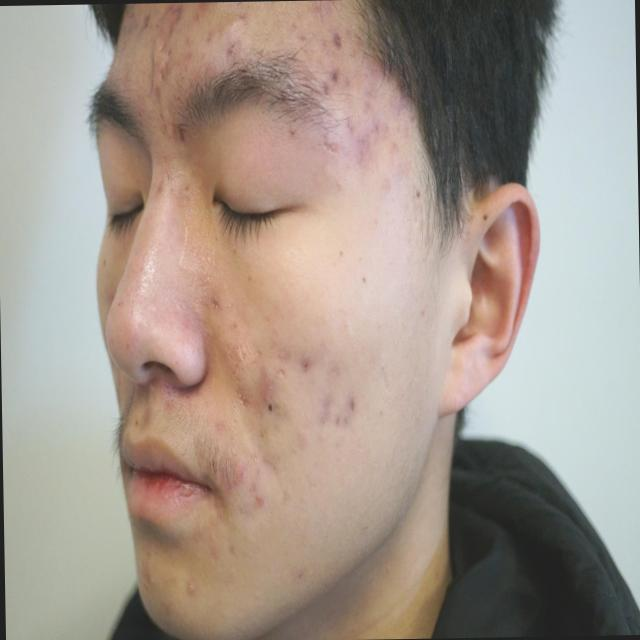blackhead: (268, 404, 272, 411), (144, 22, 148, 27), (362, 277, 366, 281), (177, 96, 180, 100), (139, 113, 141, 116), (418, 192, 420, 195), (191, 169, 193, 172), (181, 76, 183, 79)
